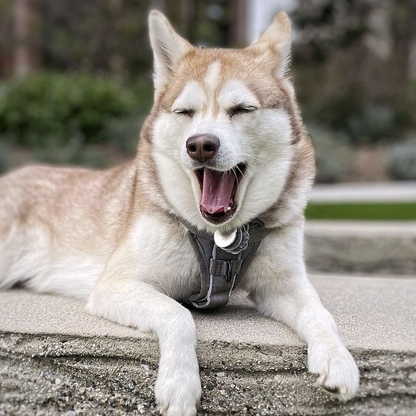husky: (1, 4, 367, 416)
